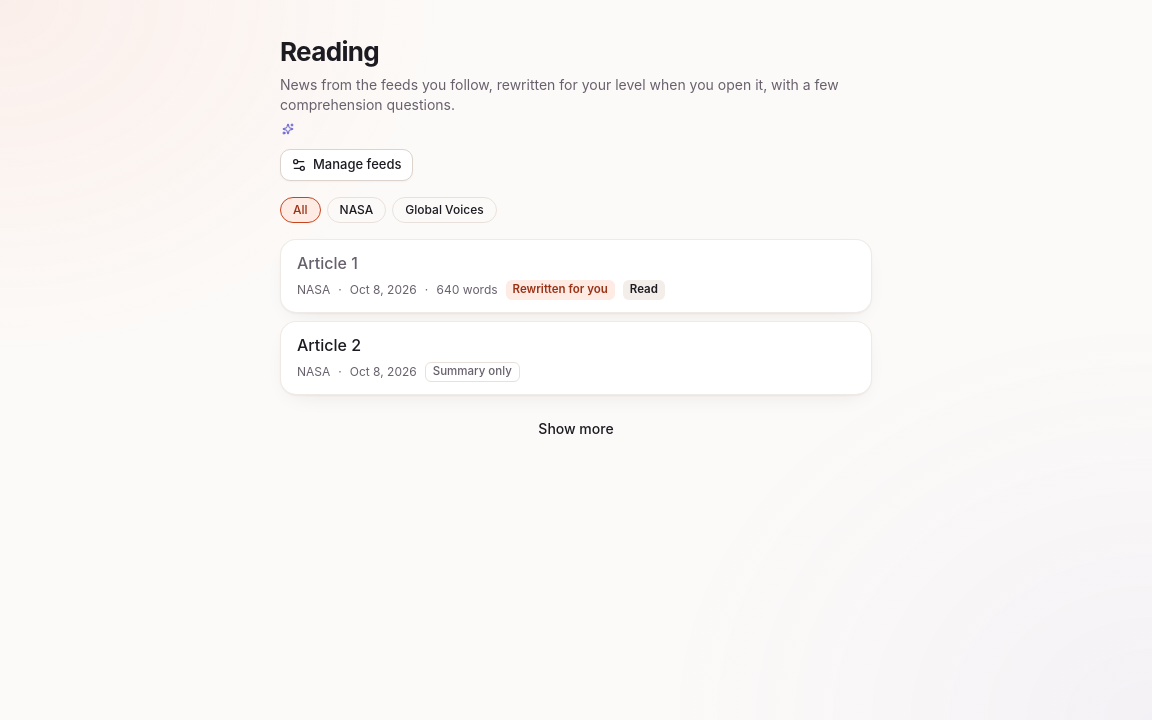
Test: ReadingList › turns feeds off and adds one in the sheet
Check: the text "Article 1" is shown, box [297,253,358,273]
Click the button with test id "manage-feeds" at coordinates (346, 165), box [280,149,412,181]
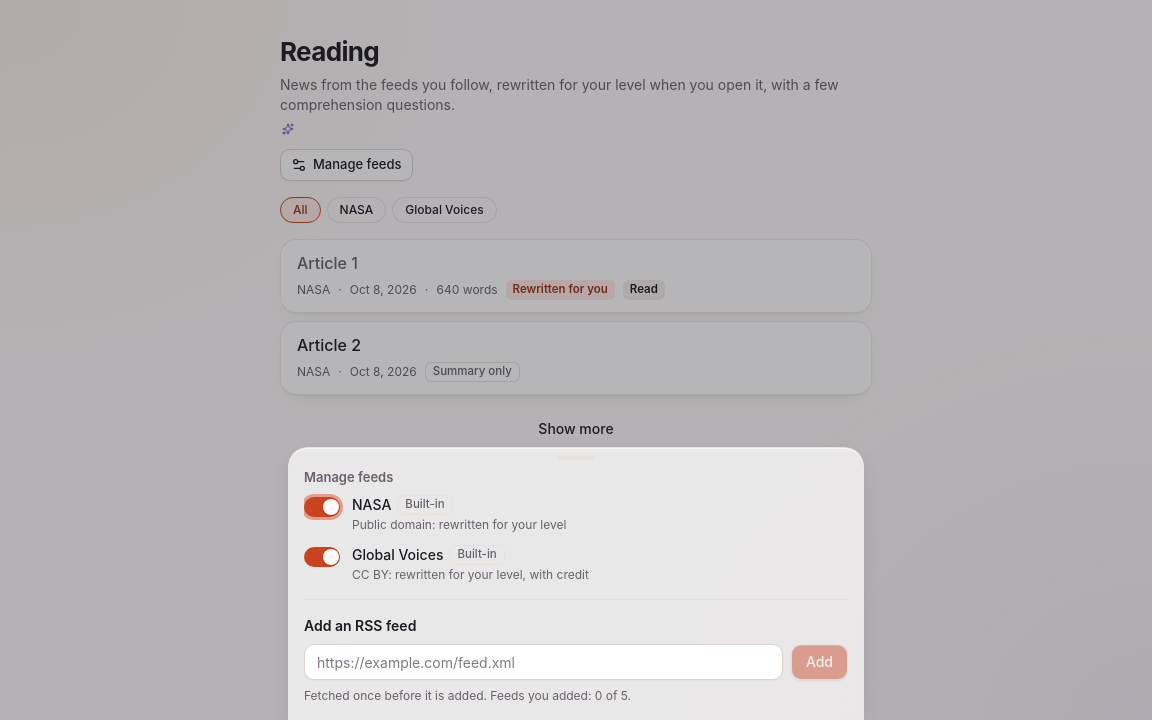
Check: the text "CC BY: rewritten for your level, with credit" is shown, box [352,567,589,582]
Click the switch named "Follow Global Voices" at coordinates (322, 557), box [304,547,340,567]
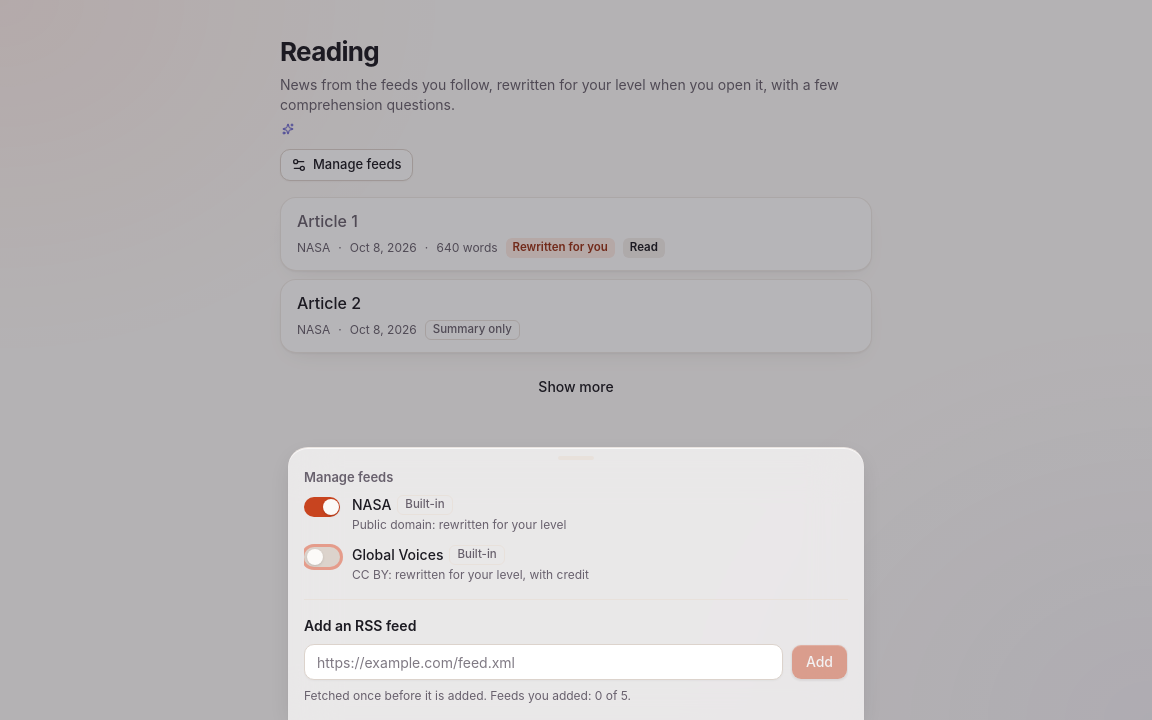
Type "https://example.com/rss" into the field with test id "feed-url" at coordinates (543, 662), box [304,644,783,680]
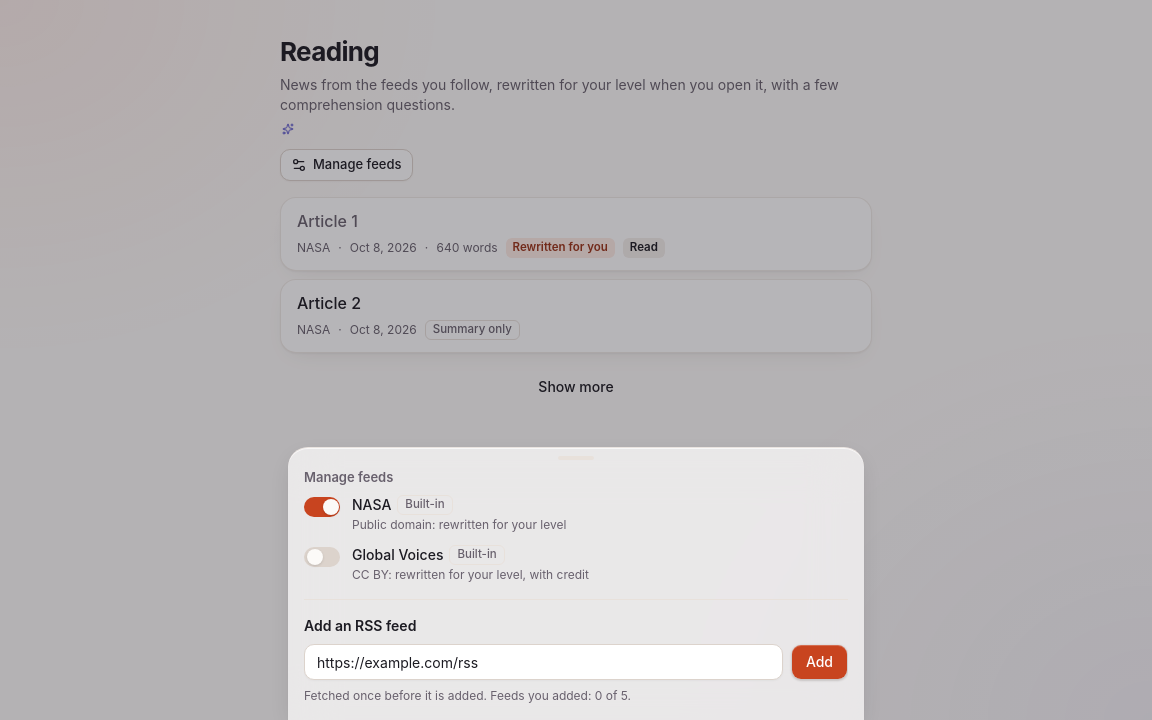
Click the button "Add" at coordinates (819, 662), box [791,644,848,680]
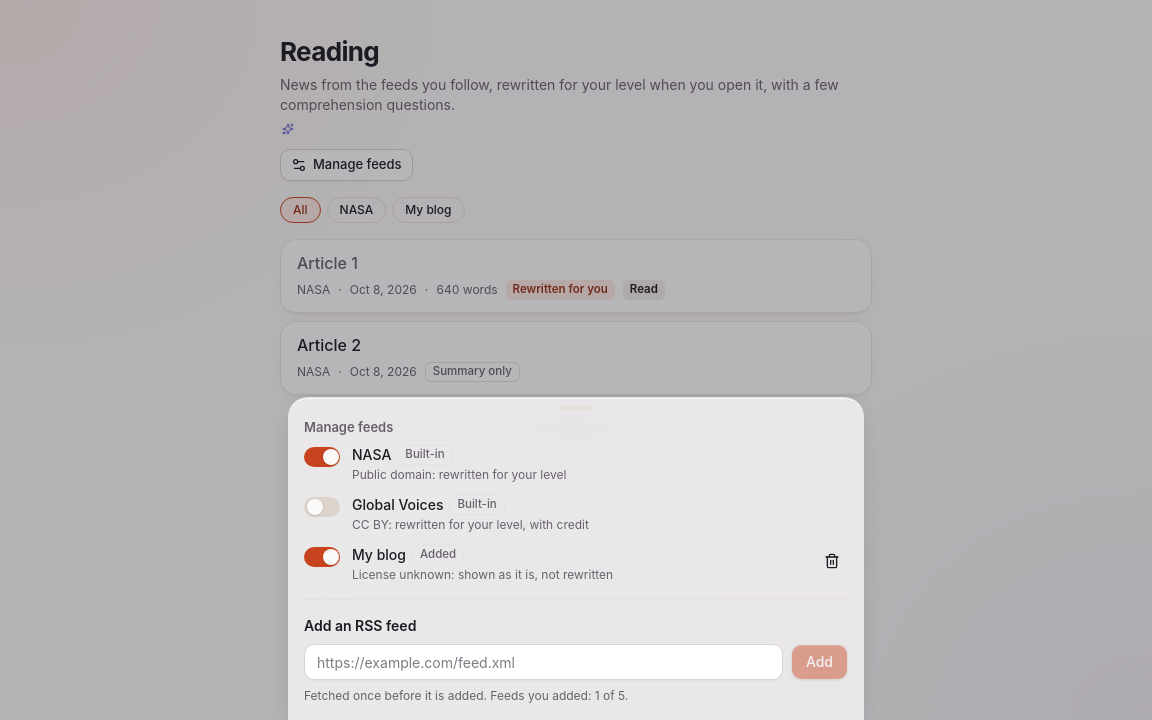
Check: the text "My blog" is shown, box [352,545,406,565]
Check: the text "Feeds you added" shows "1 of 5", box [304,688,628,703]
Check: the button named "Delete My blog" is shown, box [816,545,848,577]
